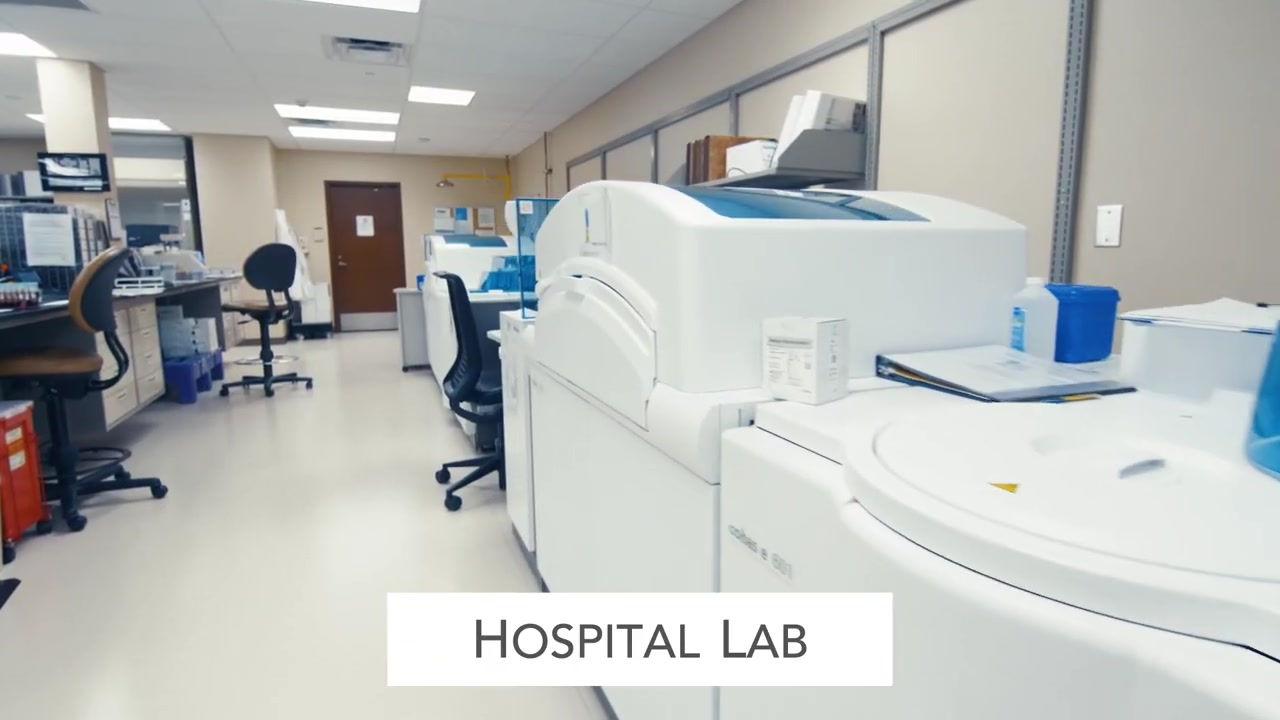TV: (35, 153, 112, 193)
chair: (1, 244, 168, 537), (435, 270, 507, 510), (217, 243, 314, 397)
door_handle: (335, 262, 348, 270)
drawer: (61, 300, 166, 430)
handle: (144, 376, 155, 383), (146, 353, 156, 360), (117, 395, 131, 399), (140, 307, 151, 311), (143, 332, 153, 336)
